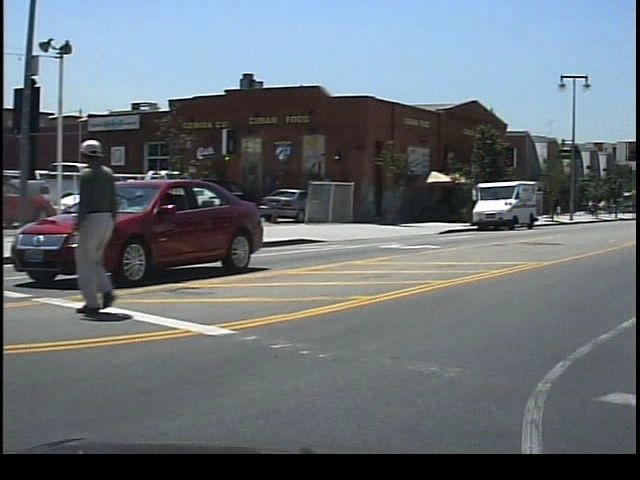person: (72, 139, 151, 319)
